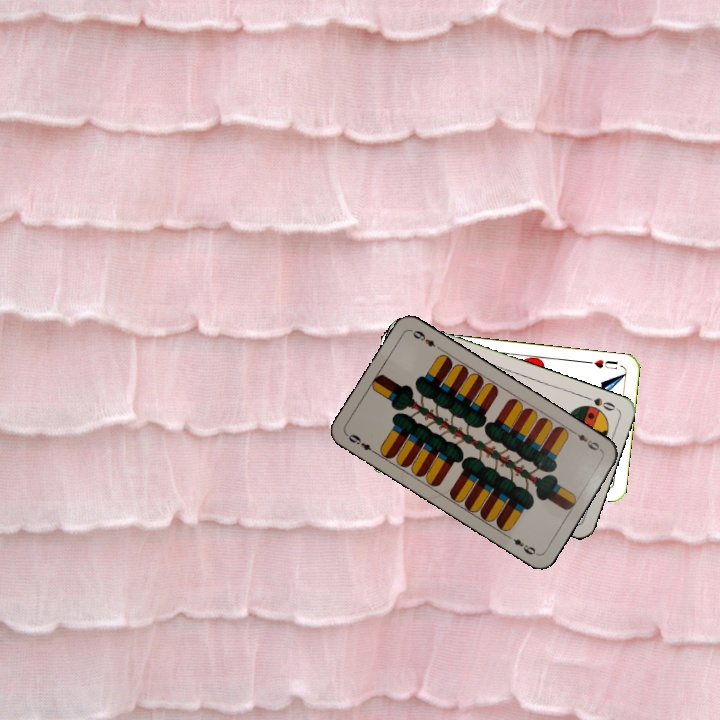E9: (568, 427, 605, 454), (343, 430, 380, 457)
HU: (583, 355, 620, 372)
SO: (581, 392, 620, 413)
